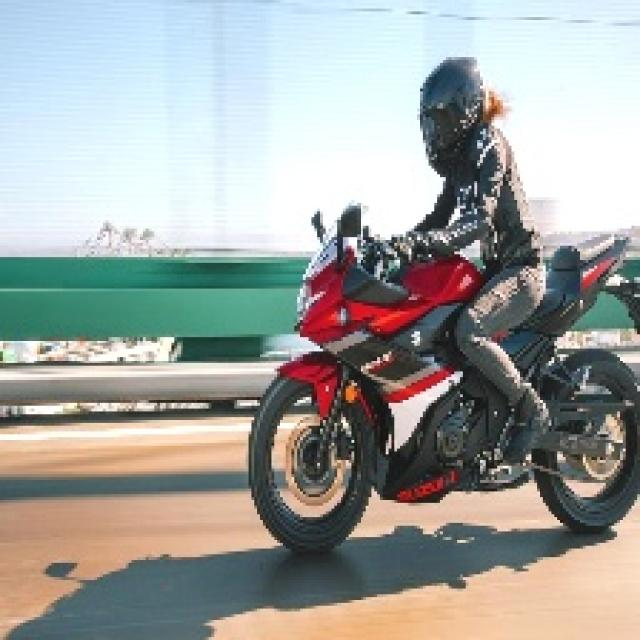bike: (264, 197, 634, 537)
